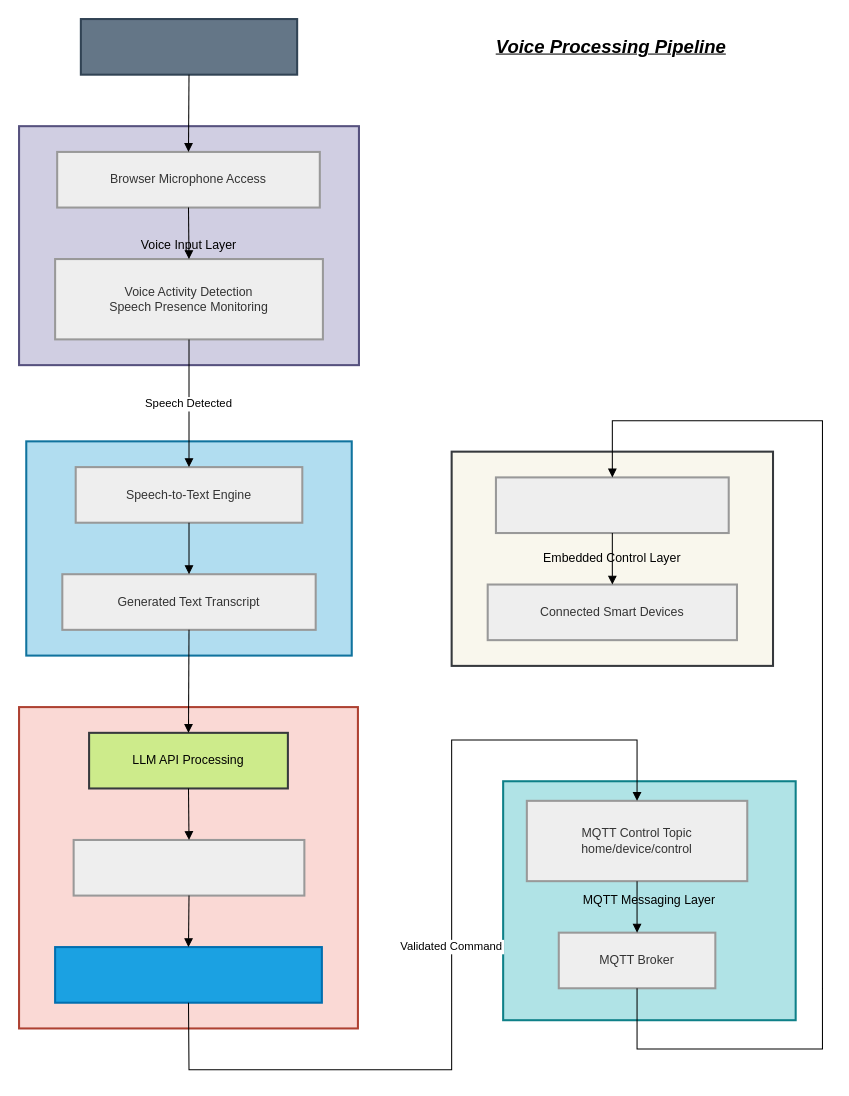
This 849x1096 diagram has some shape labels left out. Here are the shapes that lost their labels. From the top down, the box of each, then its label:
(79, 18, 298, 75): User Voice Command
(494, 476, 729, 534): ESP32 Smart Controller
(25, 440, 352, 656): Speech Processing Layer
(18, 706, 358, 1029): AI Command Processing Layer
(72, 838, 305, 896): Strict Command Parser
(54, 946, 322, 1003): Command Validation Engine
